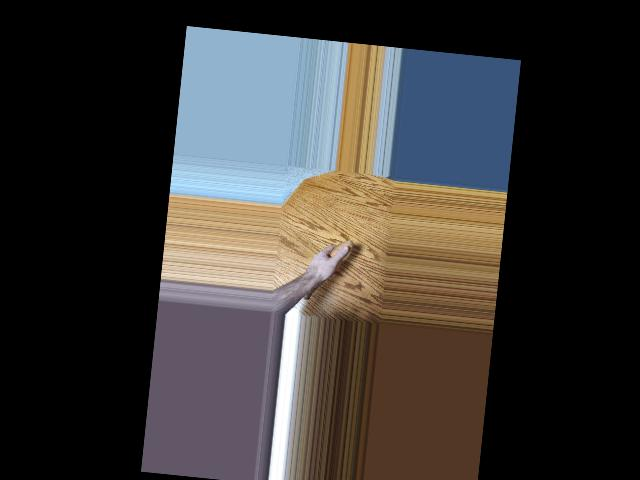sweet_potato: (304, 235, 354, 303)
